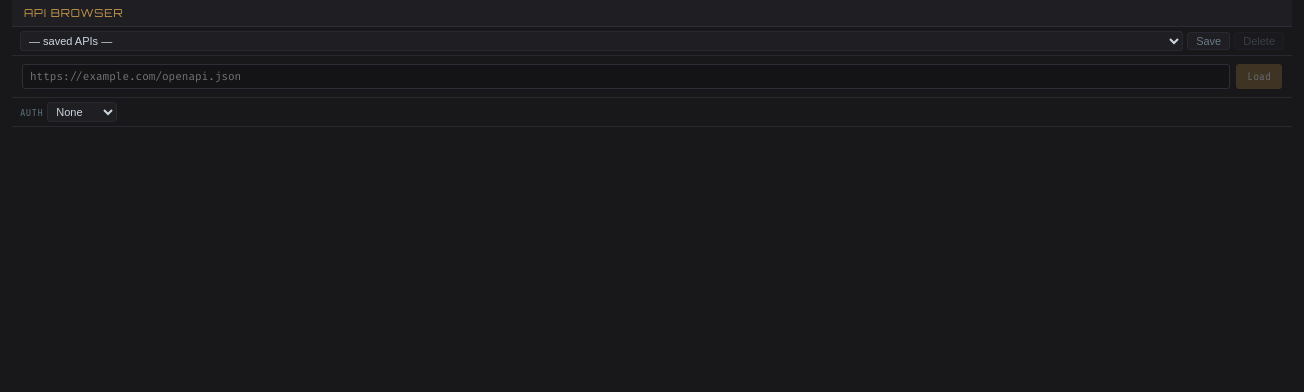
Test: ApiPanel › fetches and displays an OpenAPI 3 spec
In the field with placeholder "https://example.com/openapi.json": coordinates (626, 76) x1=22 y1=64 x2=1230 y2=89, type "https://example.com/api.json"
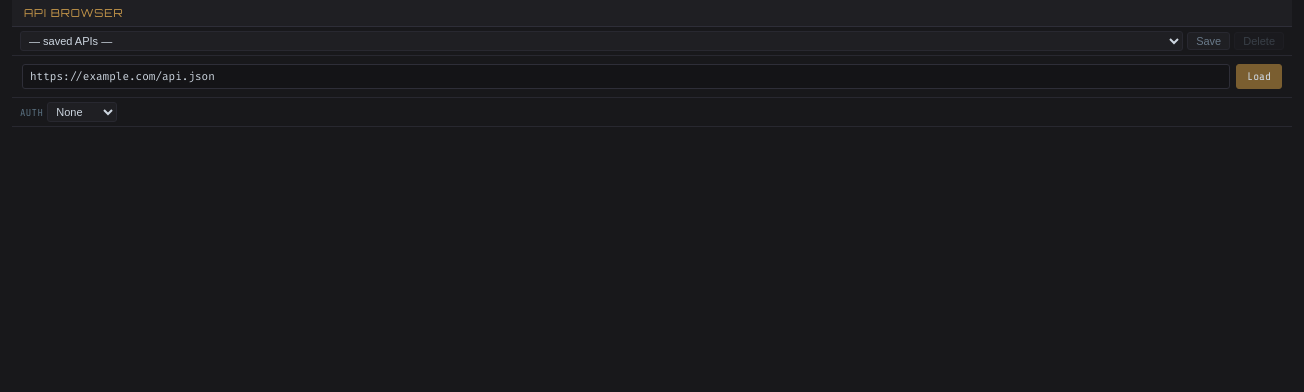
Click the button "Load": coordinates (1259, 76) x1=1236 y1=64 x2=1282 y2=89
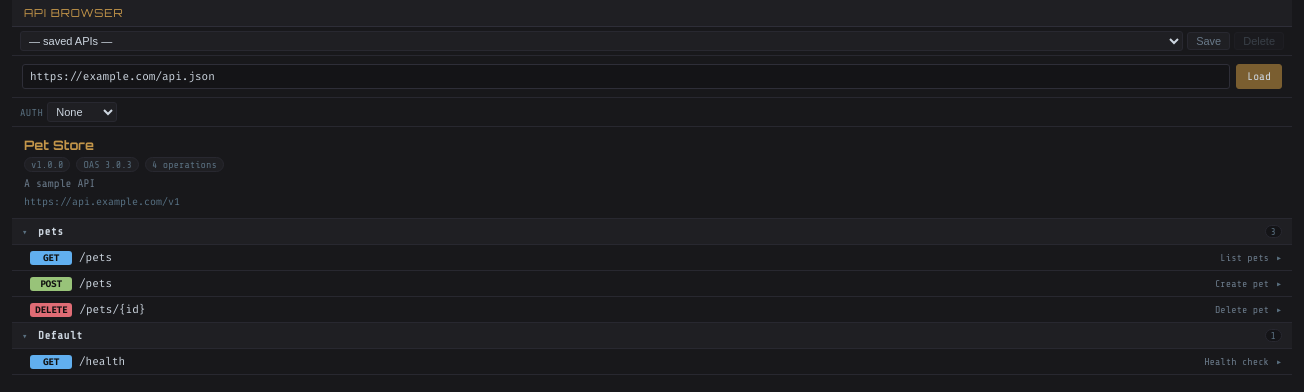
Check: the text "Pet Store" is shown, box x1=24 y1=137 x2=94 y2=153
Check: the text "v1.0.0" is shown, box x1=24 y1=157 x2=70 y2=172
Check: the text "OAS 3.0.3" is shown, box x1=76 y1=157 x2=139 y2=172
